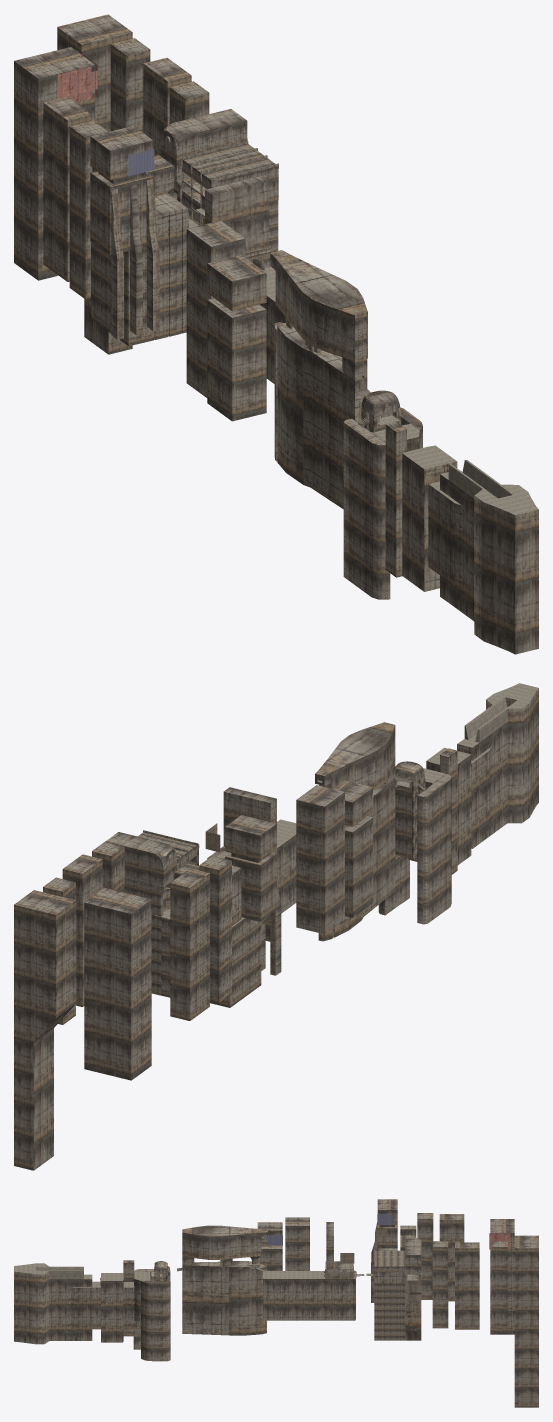
The model's file is SM_Tutorial_BLock_00.fbx.
3 views of the same model, one above another, from view 1: azimuth 30°, elevation 25°; view 2: azimuth 150°, elevation 25°; view 3: azimuth 270°, elevation 25° (orthographic). The views are drawn at different scales.
Visible parts, largest first — view 1: SM_ReeperBahn_00_Block_00.020, SM_ReeperBahn_00_Block_00.018, SM_ReeperBahn_00_Block_00.051, SM_Tutorial_BLock_00, SM_ReeperBahn_00_Block_00.008; view 2: SM_Tutorial_BLock_00, SM_ReeperBahn_00_Block_00.020, SM_ReeperBahn_00_Block_00.018, SM_ReeperBahn_00_Block_00.051; view 3: SM_ReeperBahn_00_Block_00.020, SM_ReeperBahn_00_Block_00.018, SM_Tutorial_BLock_00, SM_ReeperBahn_00_Block_00.051, SM_ReeperBahn_00_Block_00.008.
Boxes of the visible parts, x1,y1,x2,y2 form: SM_ReeperBahn_00_Block_00.020: (186,176,367,509); SM_ReeperBahn_00_Block_00.018: (343,390,538,654); SM_ReeperBahn_00_Block_00.051: (69,109,278,346); SM_Tutorial_BLock_00: (14,14,209,354); SM_ReeperBahn_00_Block_00.008: (58,50,154,191); SM_Tutorial_BLock_00: (14,842,209,1170); SM_ReeperBahn_00_Block_00.020: (207,722,395,941); SM_ReeperBahn_00_Block_00.018: (378,683,538,924); SM_ReeperBahn_00_Block_00.051: (105,815,281,1007); SM_ReeperBahn_00_Block_00.020: (182,1217,356,1335); SM_ReeperBahn_00_Block_00.018: (14,1260,170,1361); SM_Tutorial_BLock_00: (432,1214,538,1407); SM_ReeperBahn_00_Block_00.051: (355,1199,433,1340); SM_ReeperBahn_00_Block_00.008: (268,1214,510,1263).
Bounding box in the file's own units: 9268 × 18002 × 50627.
